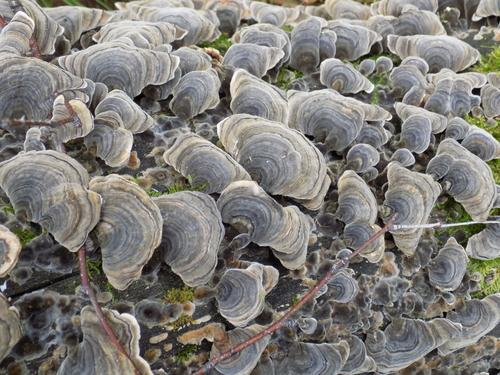Non-edible Mushroom: (0, 0, 499, 374), (0, 147, 103, 253)
